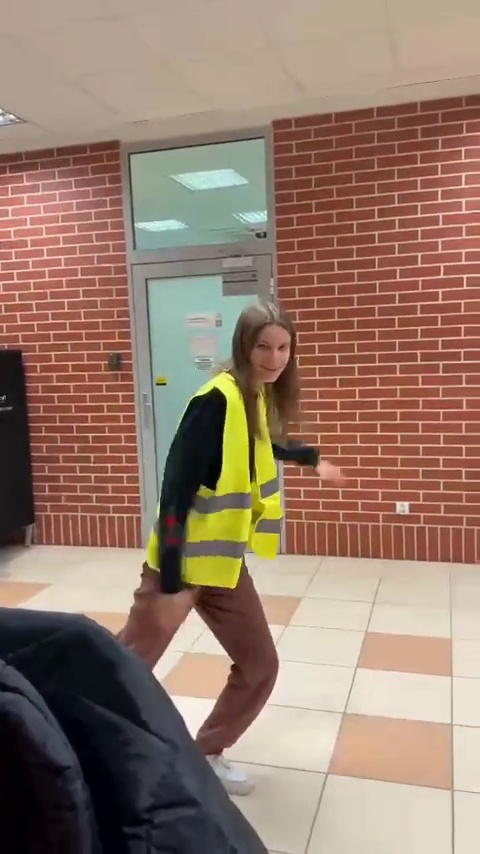vest: (135, 280, 314, 767)
